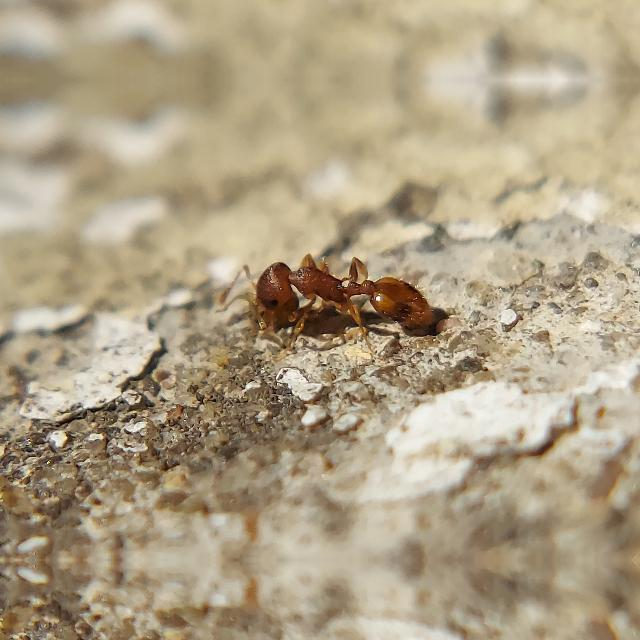Temnothorax: (220, 230, 456, 354)
